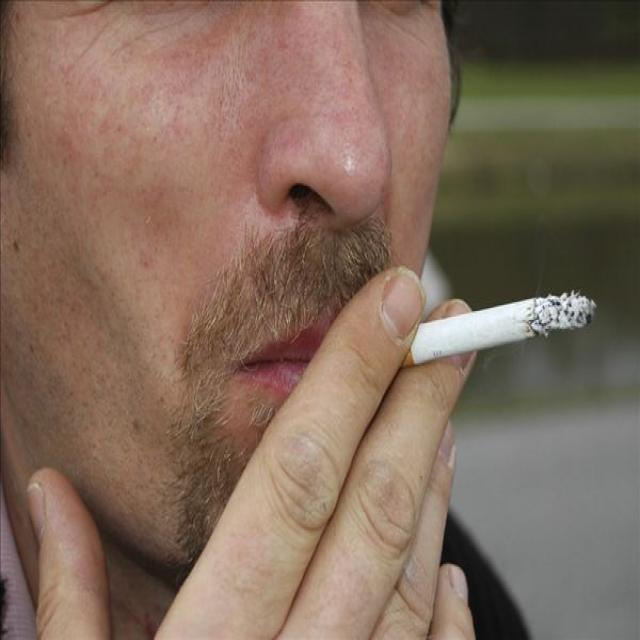smoking: (319, 287, 594, 371)
